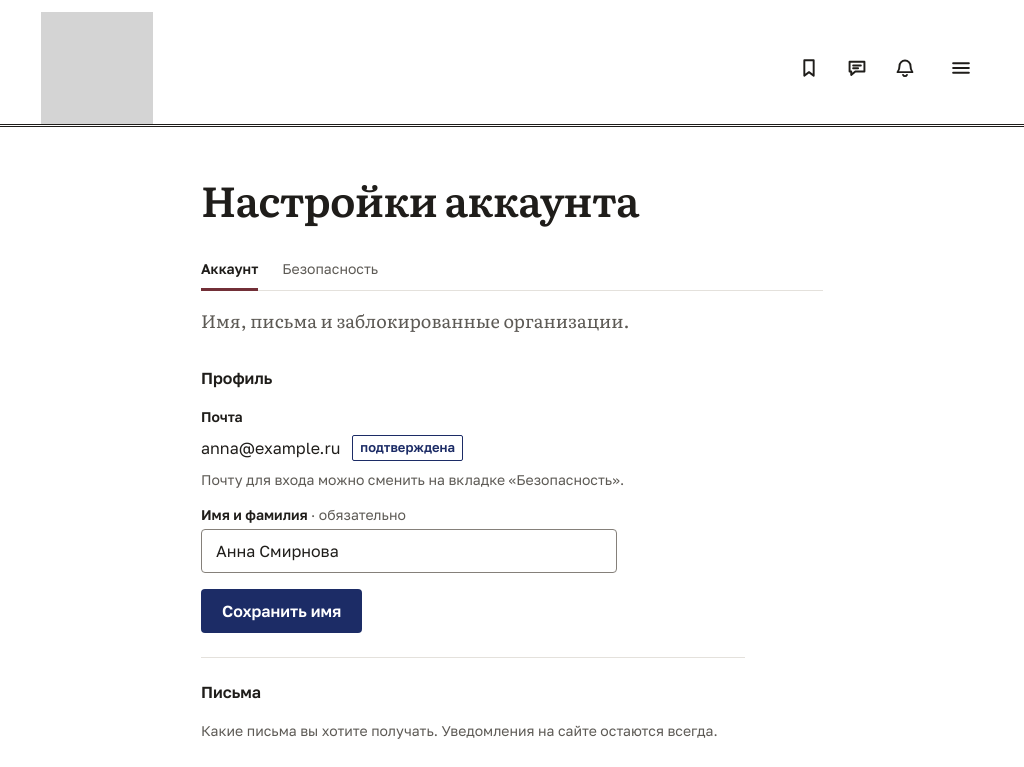
AccountPage › name › cannot be empty
Expected: the heading "Профиль" is shown, [201, 368, 272, 388]
Clear the field labelled "Имя и фамилия · обязательно" at (409, 551), box [201, 529, 617, 573]
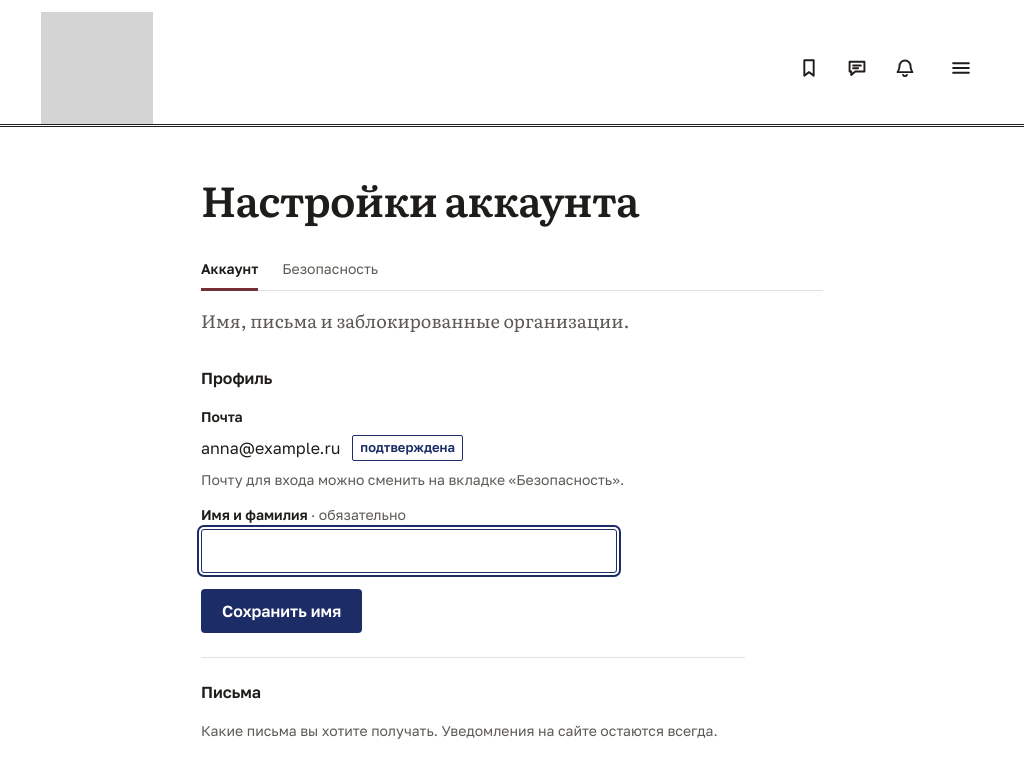
Click the button "Сохранить имя" at (282, 611), box [201, 589, 362, 633]
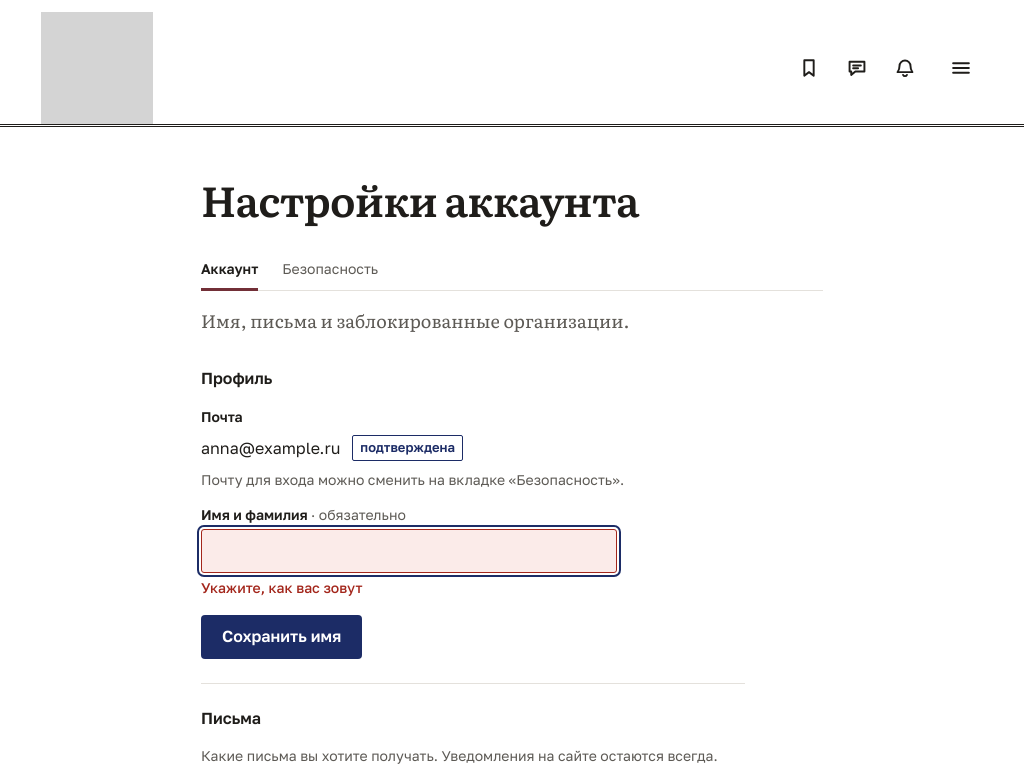
Now the text "Укажите, как вас зовут" is shown, box [201, 579, 363, 596]
